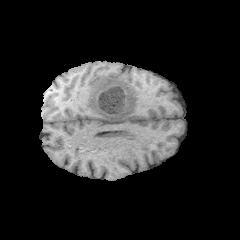glioma: (87, 74, 136, 159)
